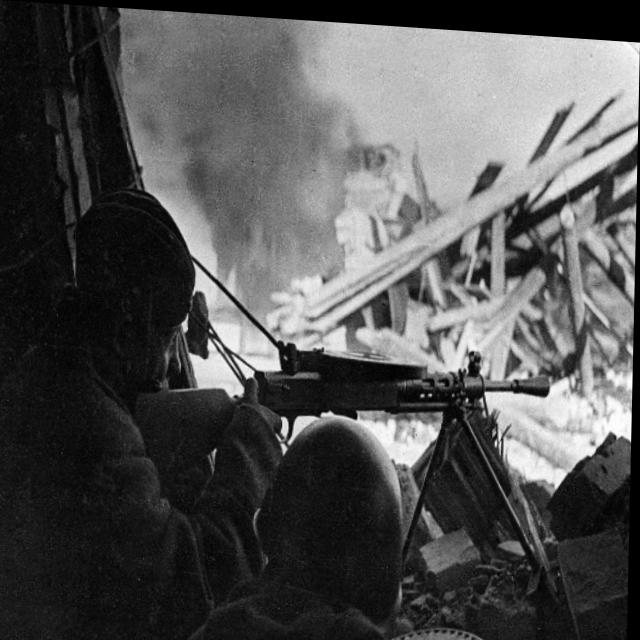other: (0, 181, 215, 640), (211, 407, 423, 640)
